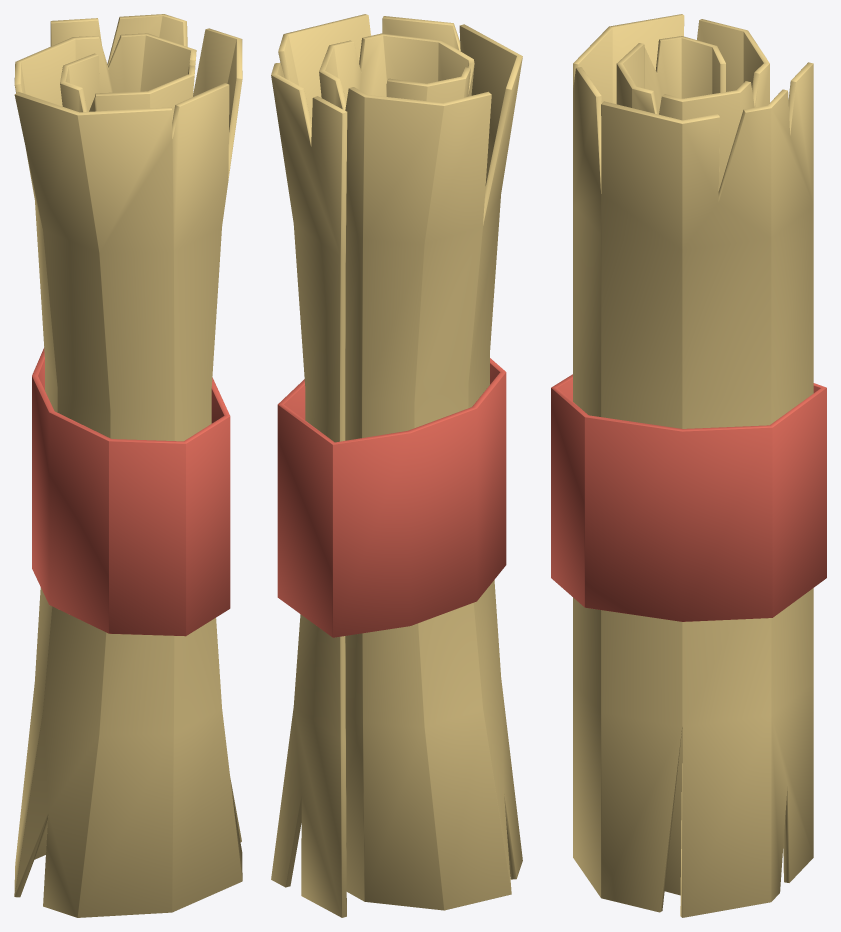
Rendered from scroll.fbx.
The picture shows the model from 3 angles, left to right: view 1: azimuth 30°, elevation 25°; view 2: azimuth 150°, elevation 25°; view 3: azimuth 270°, elevation 25°; orthographic projection.
Parts seen in each view (by area): view 1: Spiral; view 2: Spiral; view 3: Spiral.
Boxes of the visible parts, <box> form: Spiral: <box>14,14,242,917</box>; Spiral: <box>271,14,522,917</box>; Spiral: <box>551,14,826,917</box>.
Size of the model in its own units: 630 by 594 by 2005.
